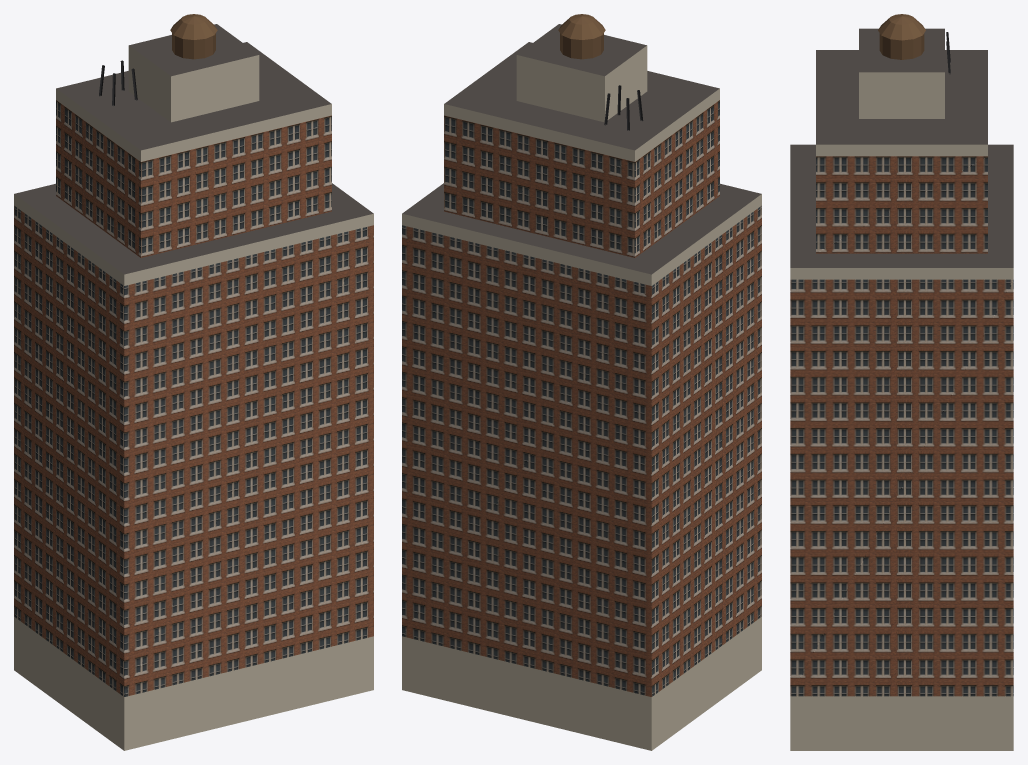
The model's file is gen_short_brick_hotel.glb.
3 views of the same model, side by side, from view 1: azimuth 30°, elevation 25°; view 2: azimuth 150°, elevation 25°; view 3: azimuth 270°, elevation 25° (orthographic).
Parts seen in each view (by area): view 1: gen_short_brick_hotel; view 2: gen_short_brick_hotel; view 3: gen_short_brick_hotel.
Part boxes in pixels (<box>): gen_short_brick_hotel: <box>14,14,373,750</box>; gen_short_brick_hotel: <box>402,14,761,750</box>; gen_short_brick_hotel: <box>790,14,1013,750</box>.
Size of the model in its own units: 34 by 86.4 by 26.
2 materials, 2 textured.
